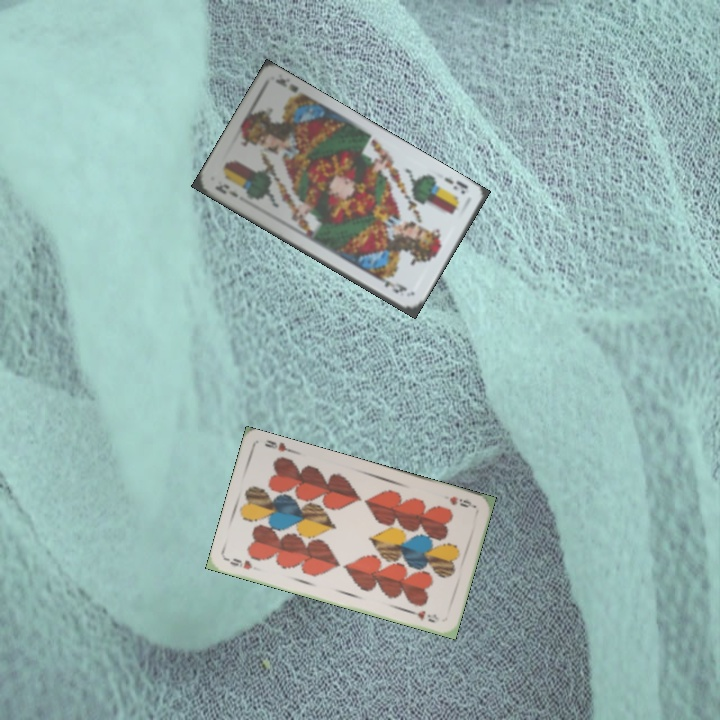EK: (440, 173, 471, 197), (211, 180, 241, 200)
H9: (445, 492, 477, 510), (223, 554, 255, 572)
